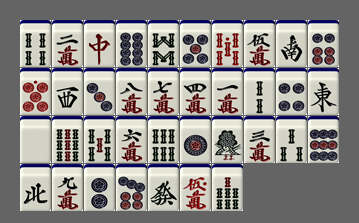0m: (180, 164, 211, 211)
0p: (20, 68, 51, 115)
0s: (212, 20, 243, 67)
1m: (212, 68, 243, 115)
1p: (180, 116, 211, 163)
1s: (212, 116, 243, 163)
1z: (308, 68, 339, 115)
2m: (52, 20, 83, 67)
2p: (84, 164, 115, 211)
2s: (244, 68, 275, 115)
2z: (276, 20, 307, 67)
3m: (244, 116, 275, 163)
3p: (84, 68, 115, 115)
3s: (276, 116, 307, 163)
3z: (52, 68, 83, 115)
4m: (180, 68, 211, 115)
4p: (276, 68, 307, 115)
4s: (20, 20, 51, 67)
4z: (20, 164, 51, 211)
5m: (244, 20, 275, 67)
5p: (180, 20, 211, 67)
5s: (84, 116, 115, 163)
5z: (20, 116, 51, 163)
6m: (116, 116, 147, 163)
6p: (308, 20, 339, 67)
6s: (148, 116, 179, 163)
6z: (148, 164, 179, 211)
7m: (148, 68, 179, 115)
7p: (116, 164, 147, 211)
7s: (212, 164, 243, 211)
7z: (84, 20, 115, 67)
8m: (116, 68, 147, 115)
8p: (116, 20, 147, 67)
8s: (148, 20, 179, 67)
9m: (52, 164, 83, 211)
9p: (308, 116, 339, 163)
9s: (52, 116, 83, 163)
